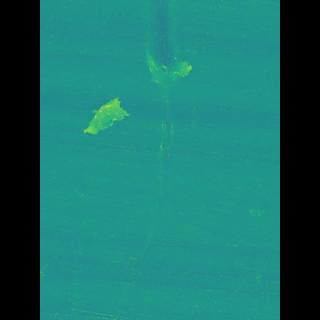Loch: (146, 0, 184, 184), (100, 92, 139, 140)
